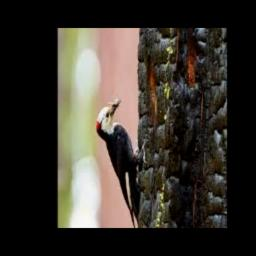Woodpecker: (97, 96, 148, 228)
